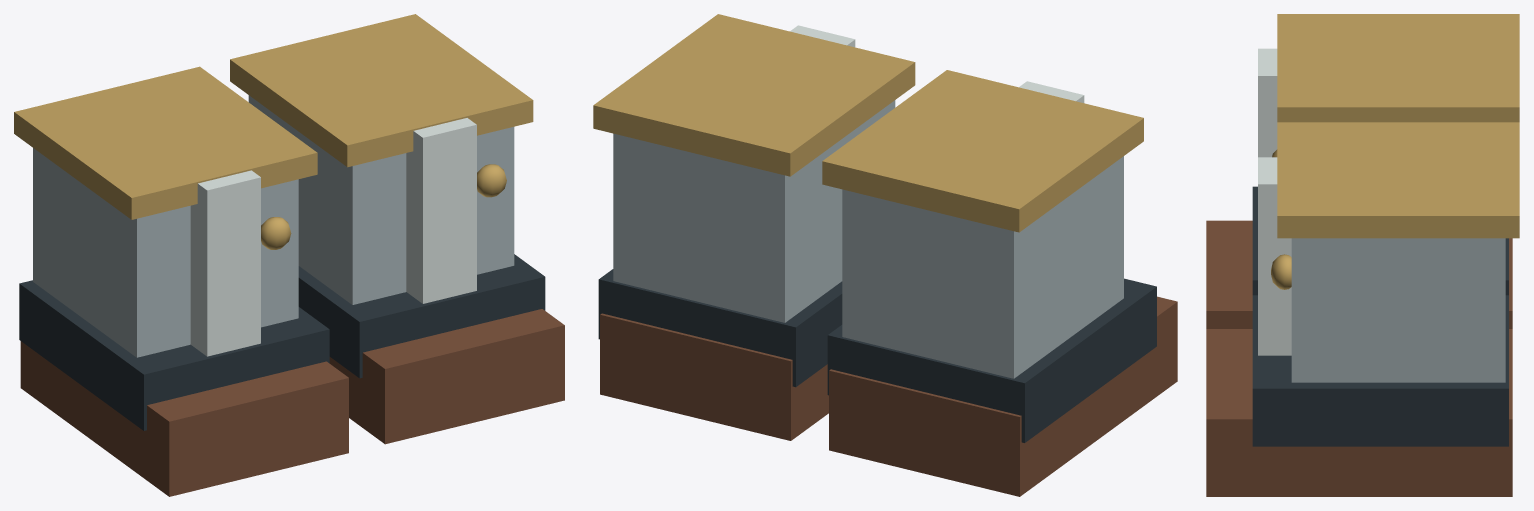
The model's file is fixed-boots.glb.
3 renders of one model, left to right at view 1: azimuth 30°, elevation 25°; view 2: azimuth 150°, elevation 25°; view 3: azimuth 270°, elevation 25°, orthographic. The views are drawn at different scales.
Visible parts, largest first — view 1: piece_shinR, piece_shinL; view 2: piece_shinR, piece_shinL; view 3: piece_shinL, piece_shinR.
Boxes of the visible parts, box(x1,y1,x2,y2) form: piece_shinR: box(14, 66, 348, 496); piece_shinL: box(230, 14, 564, 444); piece_shinR: box(822, 70, 1177, 496); piece_shinL: box(593, 14, 915, 440); piece_shinL: box(1206, 122, 1519, 496); piece_shinR: box(1206, 14, 1519, 328).
Size of the model in its own units: 0.67 by 0.4375 by 0.44.
